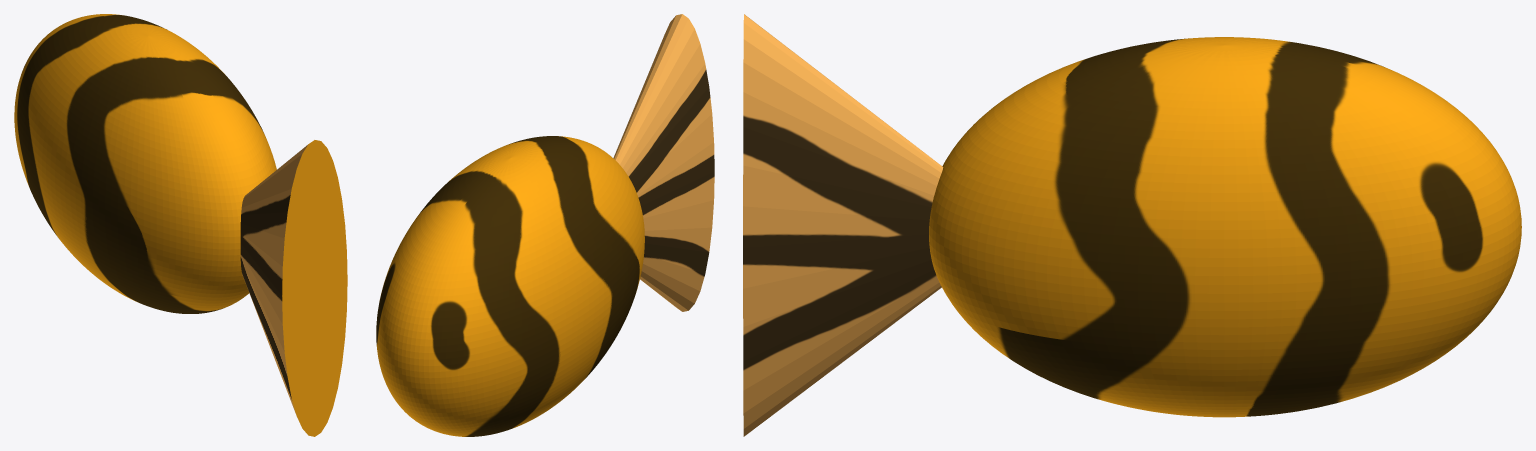
Rendered from fish.glb.
3 renders of one model, left to right at view 1: azimuth 30°, elevation 25°; view 2: azimuth 150°, elevation 25°; view 3: azimuth 270°, elevation 25°, orthographic. The views are drawn at different scales.
Parts seen in each view (by area): view 1: Circle, Cone; view 2: Circle, Cone; view 3: Circle, Cone.
Boxes of the visible parts, bbox=[...] form: Circle: bbox=[14, 14, 276, 313]; Cone: bbox=[240, 140, 347, 436]; Circle: bbox=[376, 136, 644, 436]; Cone: bbox=[613, 14, 714, 311]; Circle: bbox=[929, 37, 1521, 417]; Cone: bbox=[743, 14, 943, 436].
Size of the model in its own units: 1.97 by 3.36 by 5.61.
Materials: 2 (2 with a texture image).
